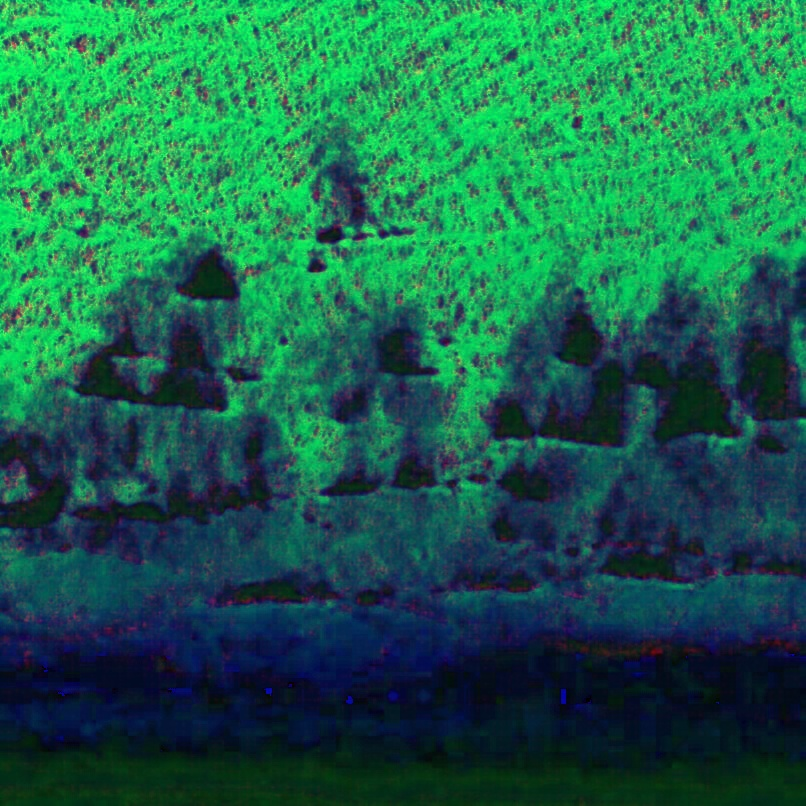rip_current: (385, 210, 561, 542)
